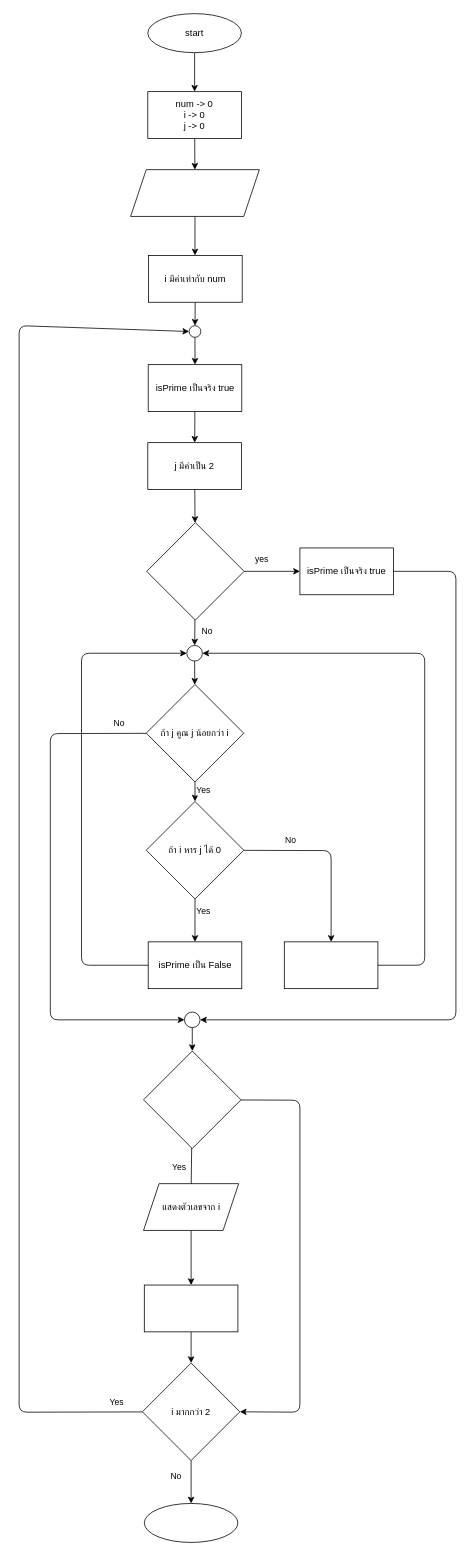
The diagram is 476 pixels wide and 1556 high, and some of its shapes have lost their labels. The centre of each missing label's shape, as x and y in pixels:
"i - 1" goes at (x=191, y=1308).
"i เท่ากับ 2" goes at (x=195, y=571).
"isPrime เป็น true มั้ย" goes at (x=192, y=1099).
"j + 1" goes at (x=331, y=965).
"stop" goes at (x=191, y=1522).
"รับค่าตัวเลข" goes at (x=194, y=192).
